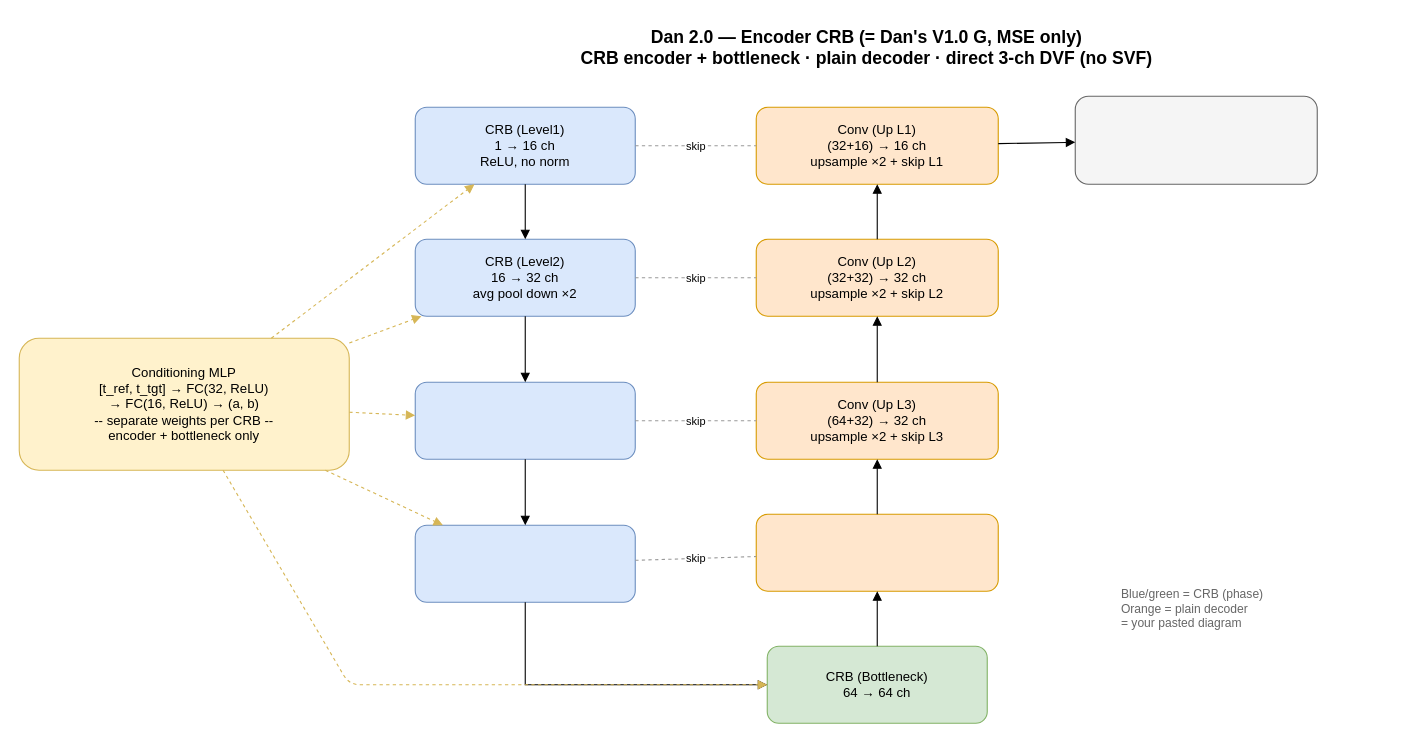
The diagram is 1425 pixels wide and 743 high, and some of its shapes have lost their labels. The centre of each missing label's shape, as x and y in pixels:
Conv (Up L4) (64+64) → 64 ch upsample ×2 + skip L4 plain · no phase: [876,552]
CRB (Level3) 32 → 32 ch avg pool down ×2: [524,420]
CRB (Level4) 32 → 64 ch avg pool down ×2: [524,563]
Output conv (linear) 16 → 3 ch = DVF directly (no integration / SVF): [1195,139]
